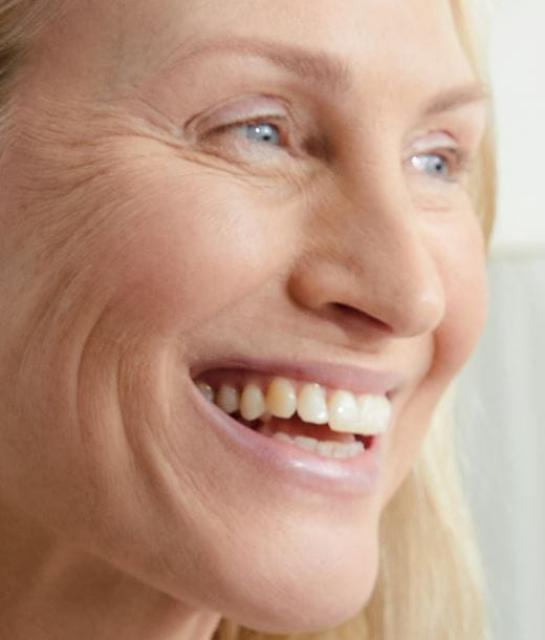crows_feet: (114, 100, 186, 160)
gummy_smile: (420, 326, 444, 392)
masseter: (42, 260, 104, 388), (114, 399, 162, 491)
smoker_lines: (326, 334, 392, 362)
